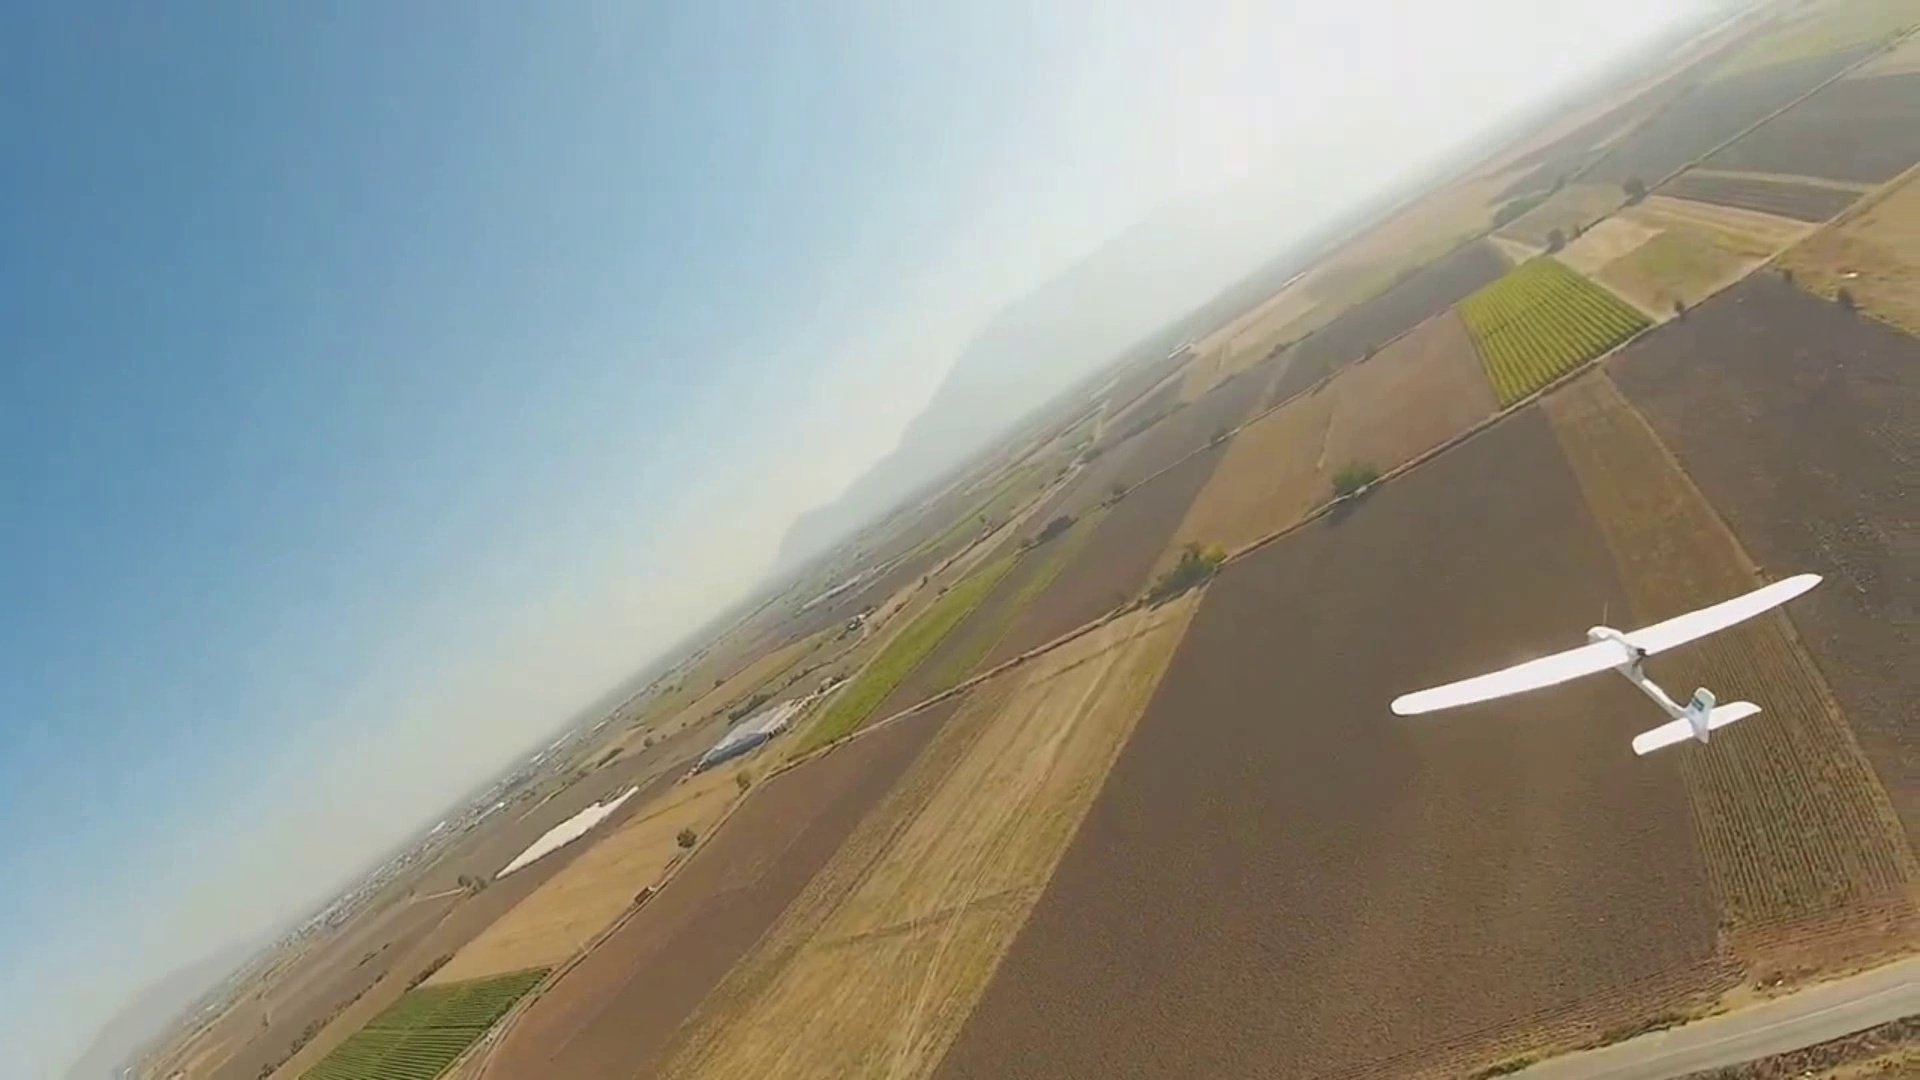airplane: (55, 8, 1914, 1066)
